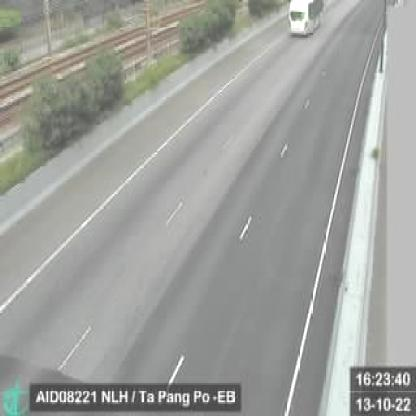Bus: (289, 0, 327, 35)
